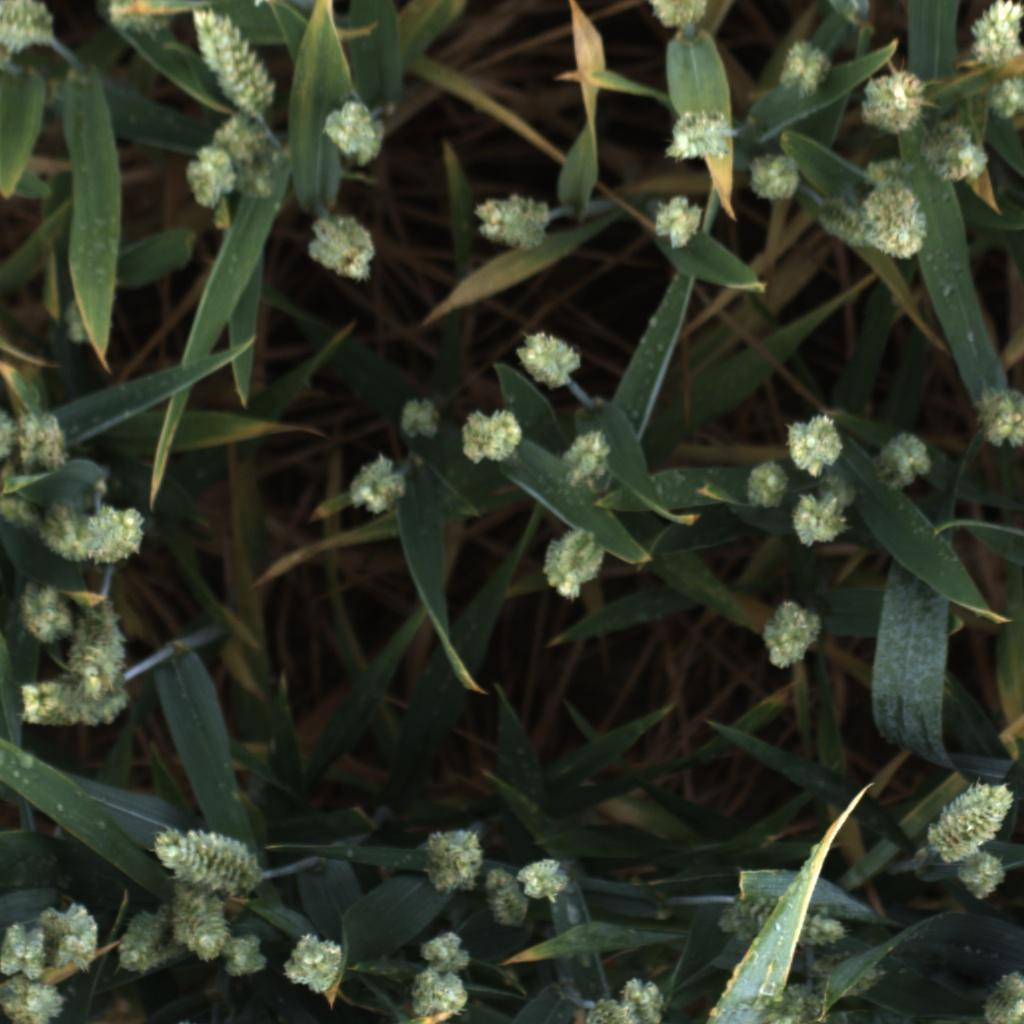0-0: (186, 5, 277, 112), (38, 495, 155, 572), (859, 152, 934, 263), (151, 824, 264, 896), (718, 883, 845, 944), (927, 777, 1017, 862), (11, 670, 135, 729), (65, 600, 133, 702), (305, 207, 382, 286), (209, 106, 290, 177), (537, 524, 608, 604), (795, 951, 907, 1001), (859, 62, 930, 140), (471, 189, 554, 254), (756, 596, 824, 673), (417, 820, 483, 896), (513, 324, 585, 393), (321, 93, 388, 167), (113, 906, 178, 982), (922, 119, 994, 186), (40, 900, 104, 974), (739, 970, 826, 1024), (0, 406, 70, 473), (282, 930, 352, 997), (173, 890, 234, 966), (344, 449, 410, 519), (865, 430, 938, 493), (786, 407, 850, 478), (14, 575, 77, 647), (660, 105, 734, 166), (459, 405, 530, 468), (790, 486, 855, 553), (967, 377, 1024, 453), (962, 0, 1024, 69), (180, 141, 241, 210), (744, 145, 807, 209), (559, 423, 616, 493), (807, 197, 871, 257), (777, 36, 833, 104), (409, 967, 474, 1024), (651, 190, 710, 252), (479, 867, 534, 931), (0, 915, 51, 982), (741, 456, 795, 515), (953, 850, 1012, 902), (414, 927, 475, 977), (0, 978, 66, 1024), (518, 853, 574, 906), (0, 0, 58, 50), (630, 0, 711, 35), (394, 392, 446, 443), (218, 930, 271, 979), (97, 1, 174, 33), (620, 974, 669, 1024), (0, 483, 38, 538), (984, 75, 1024, 124), (579, 995, 638, 1023)
